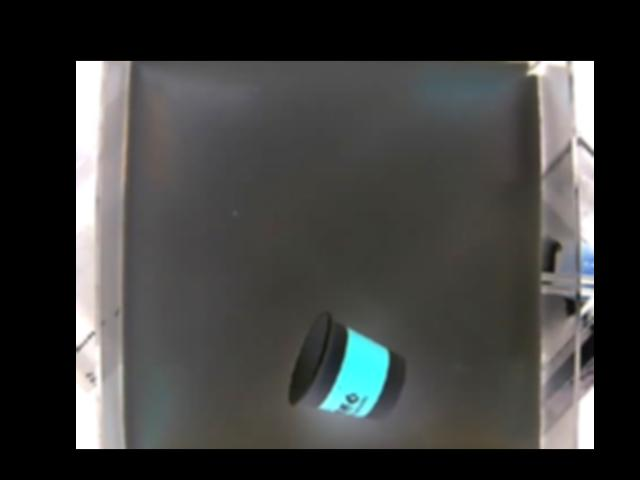Cup: (287, 312, 401, 420)
